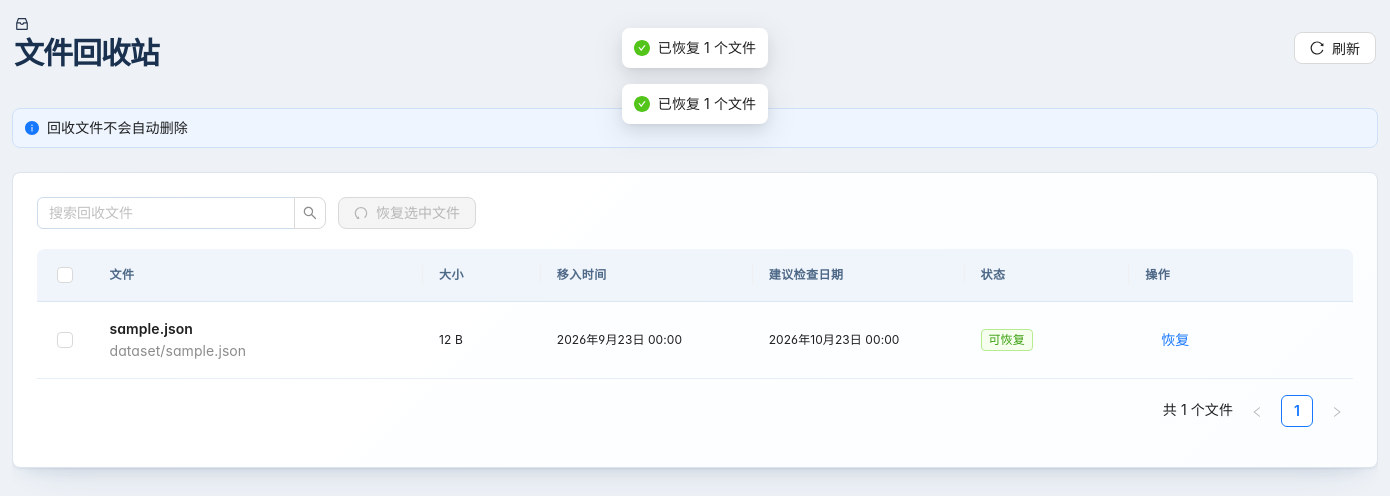
Test case: Recycle bin direct actions › ignores repeated action clicks while a request is pending
This screenshot has width=1390, height=496.
Click the button "恢复": click(1175, 340) top-left (1145, 324), bottom-right (1205, 356)
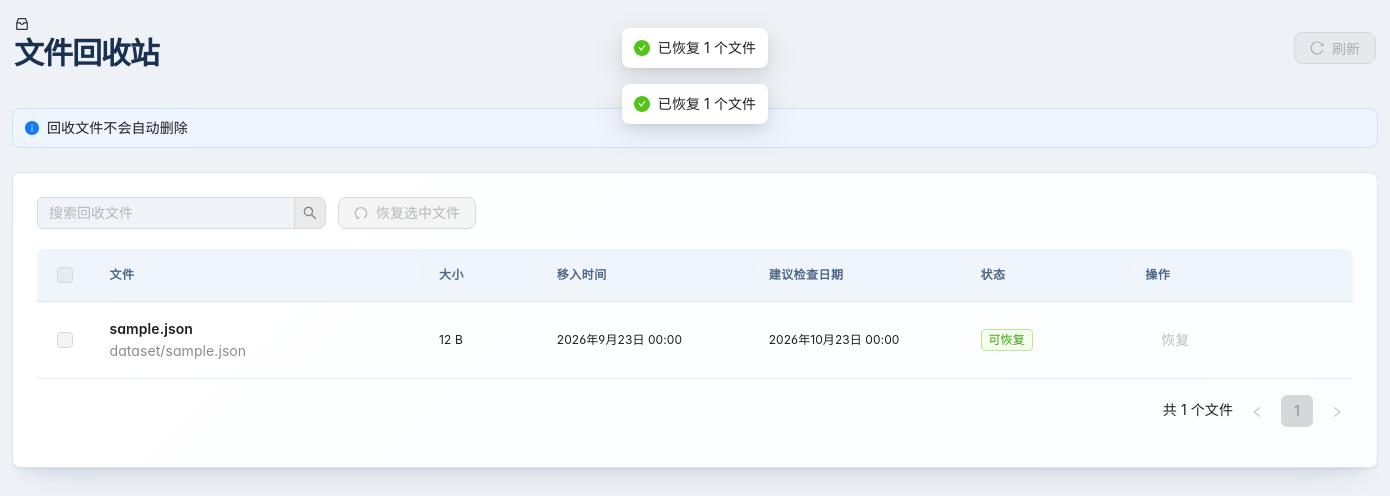
Click the button "恢复": click(1175, 340) top-left (1145, 324), bottom-right (1205, 356)
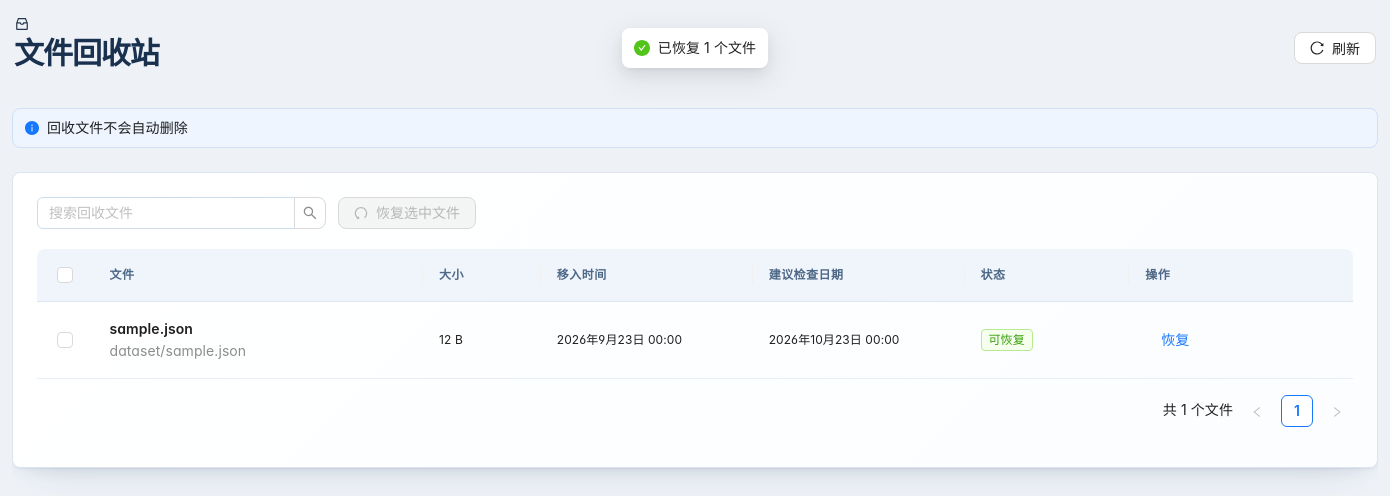
expect the button "恢复选中文件" is disabled: met, box top-left (338, 197), bottom-right (476, 229)
expect the button "恢复" is enabled: met, box top-left (1145, 324), bottom-right (1205, 356)
